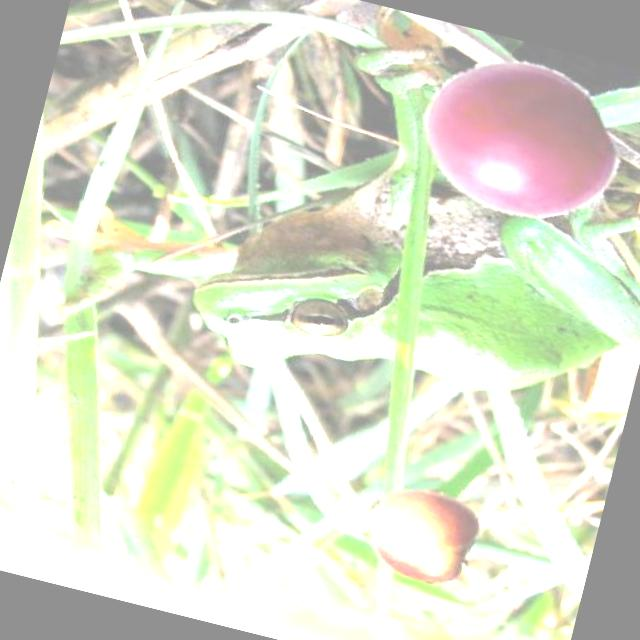Apple: (403, 42, 636, 238), (352, 474, 496, 596)
